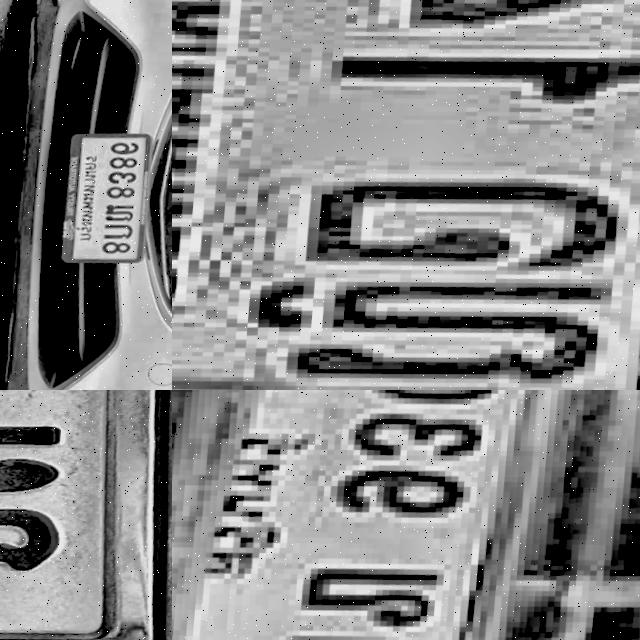license-plate: (172, 0, 640, 390), (172, 390, 599, 640), (0, 390, 172, 640), (55, 128, 155, 272)
